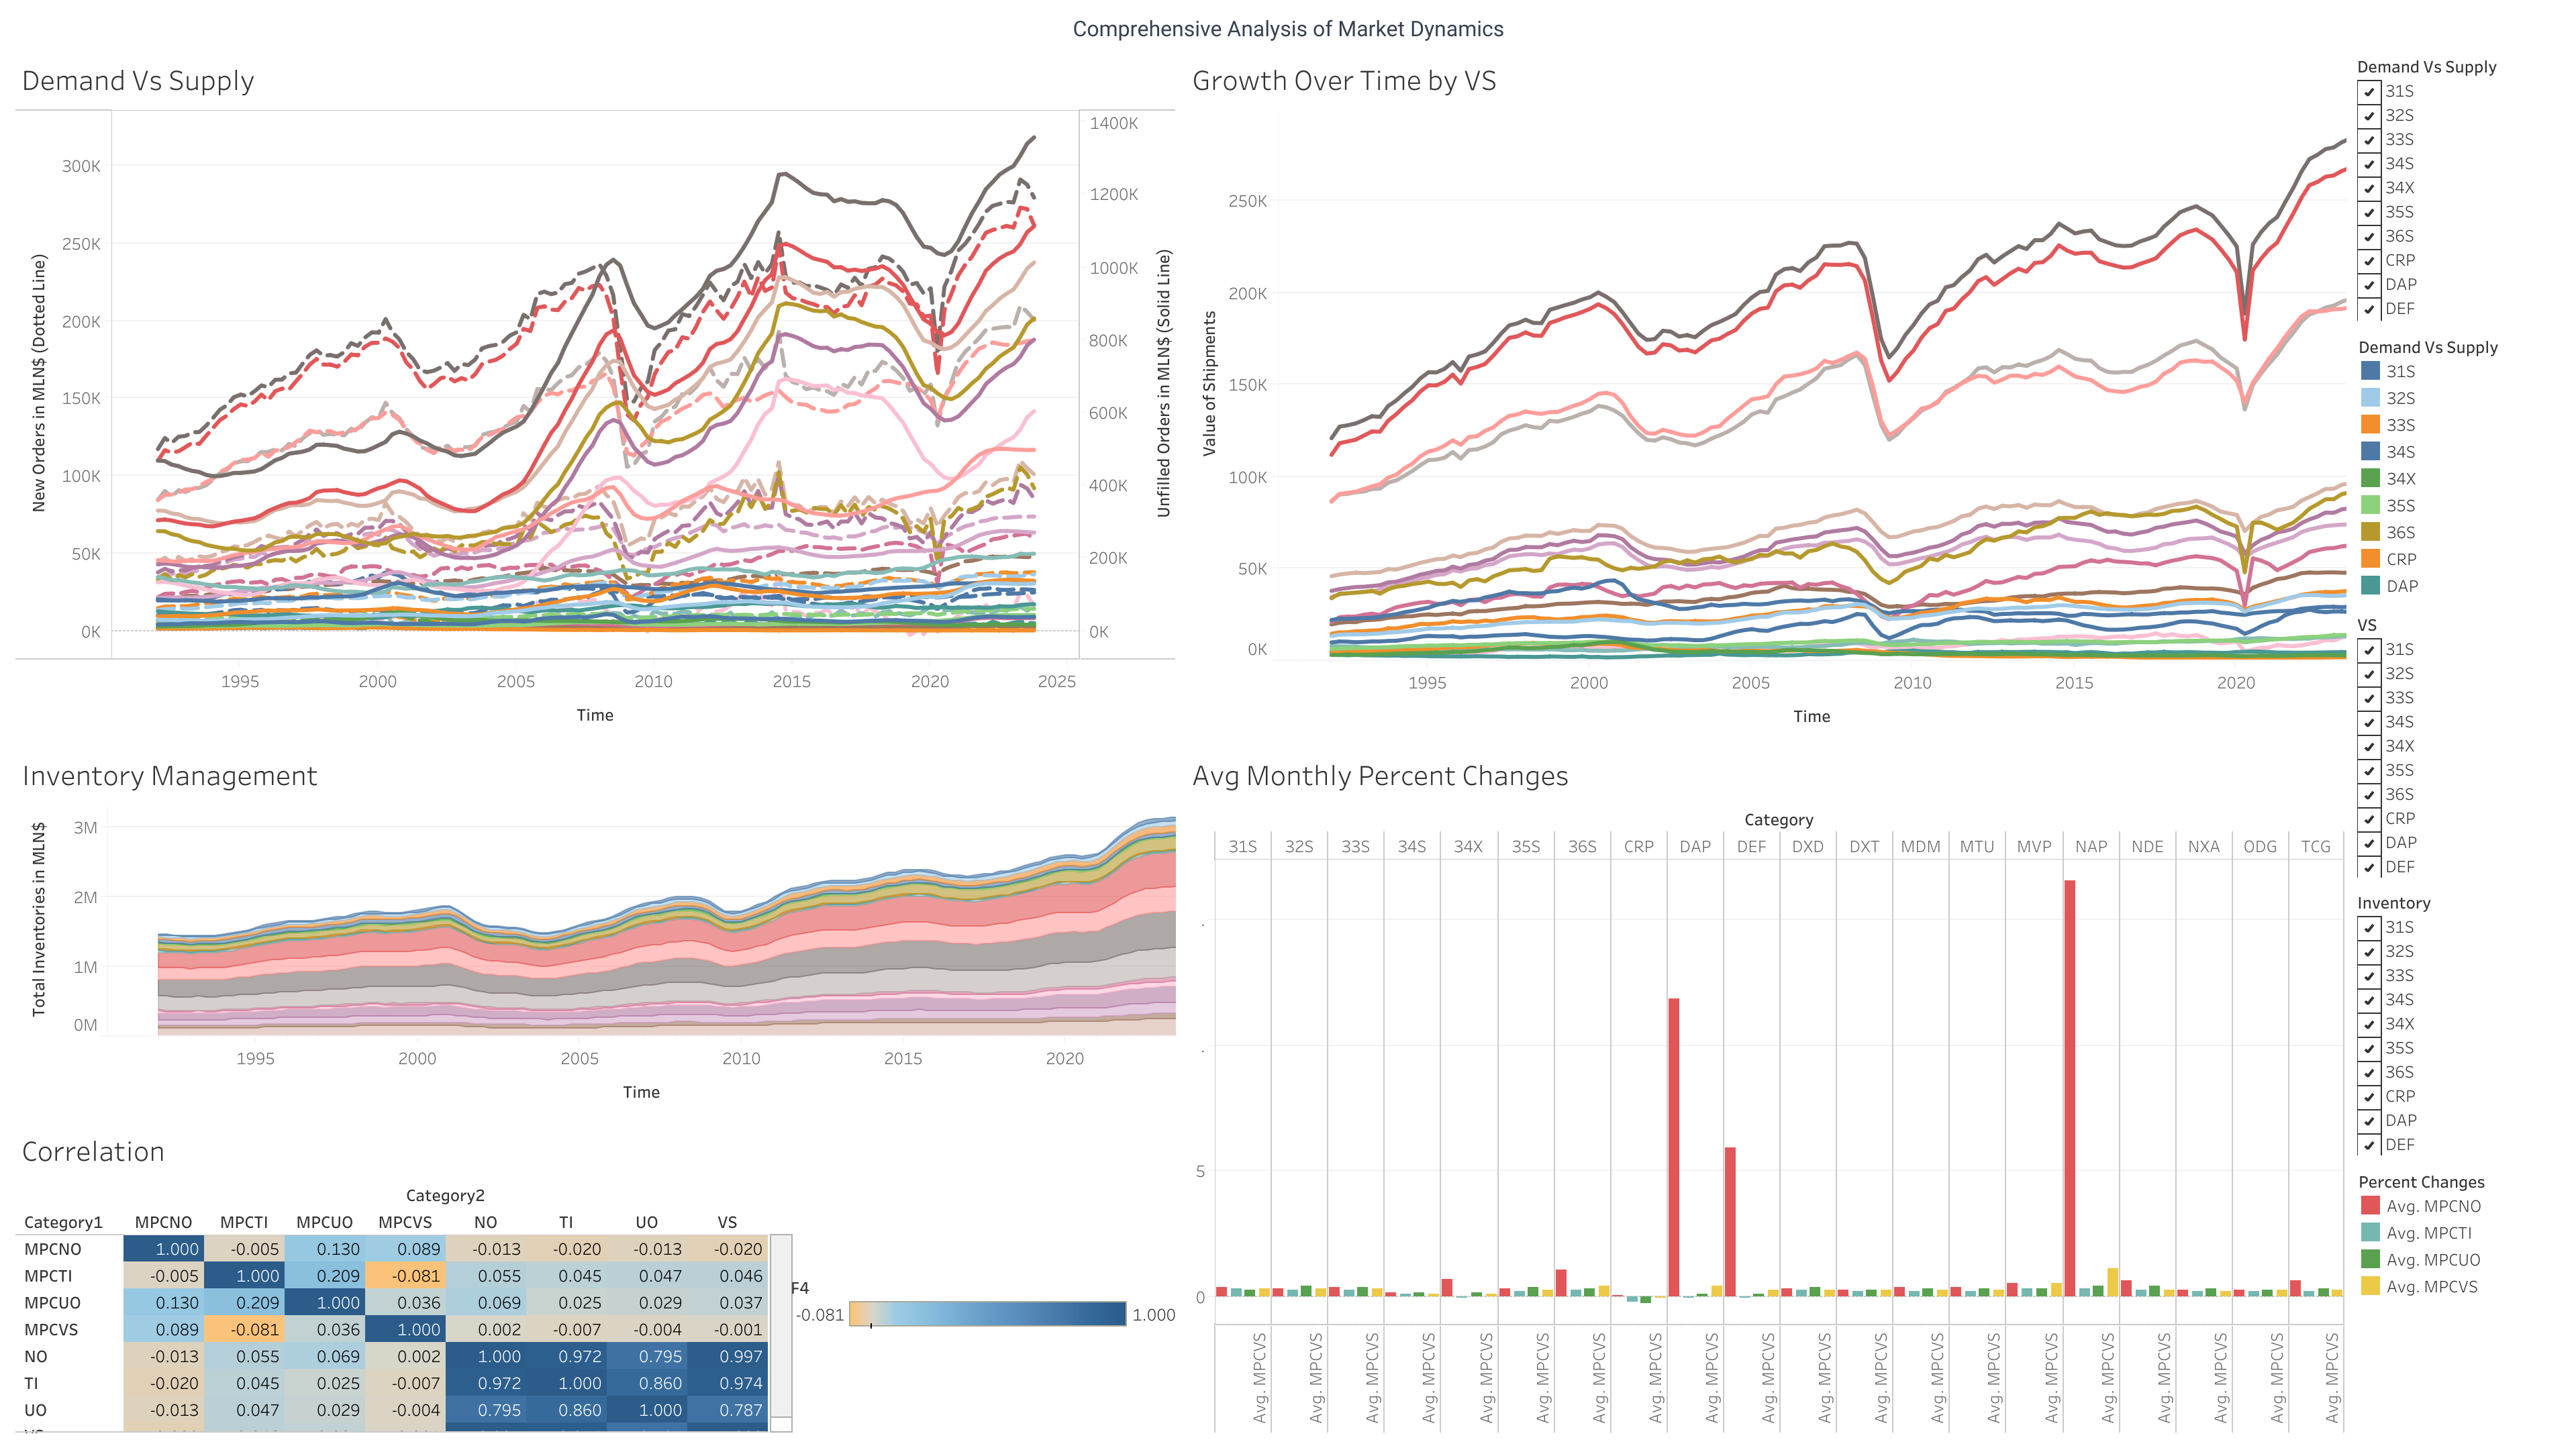

What the dashboard file says about the page in this screenshot:
{"tool":"tableau","page":{"name":"Dashboard 1","canvas":[1000,800],"ordinal":0},"visuals":[{"type":"worksheet","title":"Sheet 1","mark":"Line","rows":["NO","UO"],"cols":["Time"],"box":[8,8,412,392]},{"type":"worksheet","title":"Sheet 2","mark":"Automatic","rows":["VS"],"cols":["Time"],"box":[420,8,412,392]},{"type":"filter","title":"Sheet 1","param":"[federated.1houl6g1st5pin1bked4i11c4pu5].[none:Category:nk]","box":[832,8,160,169.2]},{"type":"legend","title":"Sheet 1","param":"[federated.1houl6g1st5pin1bked4i11c4pu5].[none:Category:nk]","box":[832,177.2,160,169.2]},{"type":"filter","title":"Sheet 2","param":"[federated.1houl6g1st5pin1bked4i11c4pu5].[none:Category:nk]","box":[832,346.5,160,169.2]},{"type":"worksheet","title":"Sheet 3","mark":"Area","rows":["TI"],"cols":["Time"],"box":[8,400,412,196]},{"type":"worksheet","title":"Sheet 4","mark":"Automatic","cols":["Category"],"box":[420,400,412,392]},{"type":"filter","title":"Sheet 3","param":"[federated.1houl6g1st5pin1bked4i11c4pu5].[none:Category:nk]","box":[832,515.7,160,169.2]},{"type":"legend","title":"Sheet 5","param":"[federated.1houl6g1st5pin1bked4i11c4pu5].[sum:F4:qk]","box":[182,592,152,79]},{"type":"worksheet","title":"Sheet 5","mark":"Square","rows":["F2"],"cols":["F3"],"box":[8,596,412,196]},{"type":"legend","title":"Sheet 4","param":"[federated.1houl6g1st5pin1bked4i11c4pu5].[:Measure Names]","box":[832,685,160,107]}]}

Visuals, with their boxes in screenshot pixels (x1, y1, x2, y2):
"Sheet 1" worksheet (Line marks): region(953, 0, 1663, 615)
"Sheet 2" worksheet: region(1663, 0, 2373, 615)
"Sheet 1" filter: region(2373, 0, 2575, 231)
"Sheet 1" legend: region(2373, 231, 2575, 523)
"Sheet 2" filter: region(2373, 523, 2575, 815)
"Sheet 3" worksheet (Area marks): region(953, 615, 1663, 953)
"Sheet 4" worksheet: region(1663, 615, 2373, 1290)
"Sheet 3" filter: region(2373, 815, 2575, 1106)
"Sheet 5" legend: region(1252, 946, 1515, 1082)
"Sheet 5" worksheet (Square marks): region(953, 953, 1663, 1290)
"Sheet 4" legend: region(2373, 1106, 2575, 1290)
